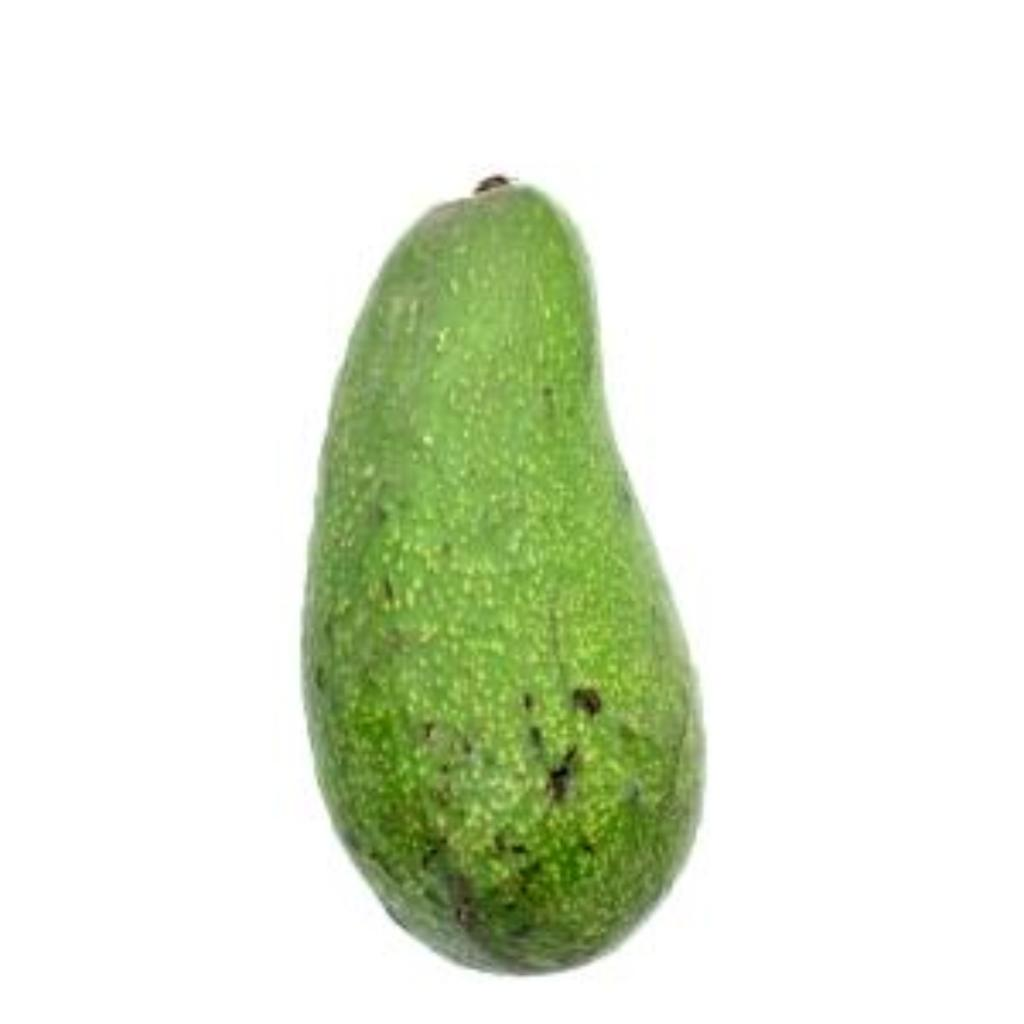cercospora: (292, 168, 722, 991)
